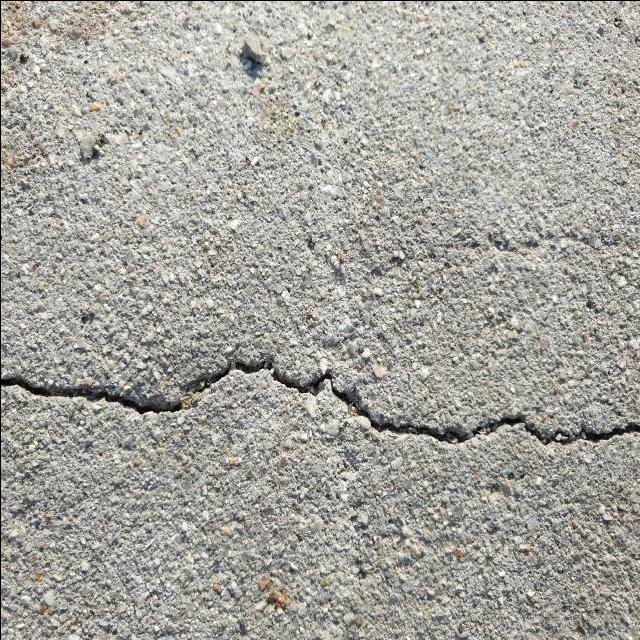SurfaceCrack: (1, 332, 640, 477)
